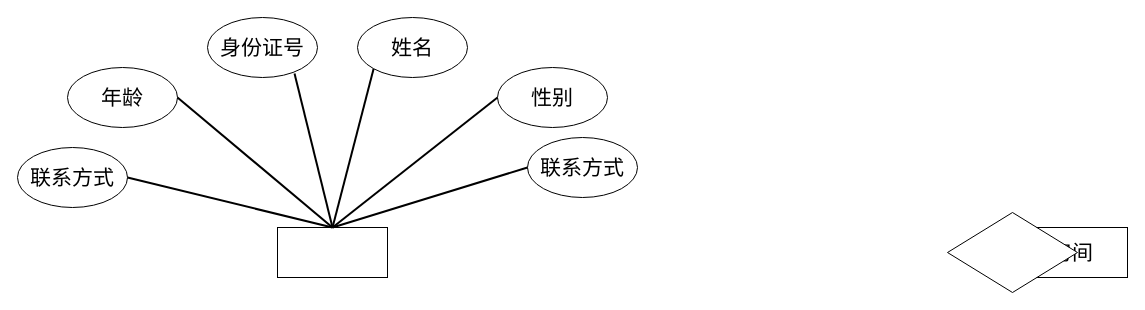
This 1145x310 diagram has some shape labels left out. The shapes that lost their labels are listed below. From the top down, each one's centre as x and y in pixels, then its label:
At [332,252]: "顾客".
At [1012,252]: "入住".
